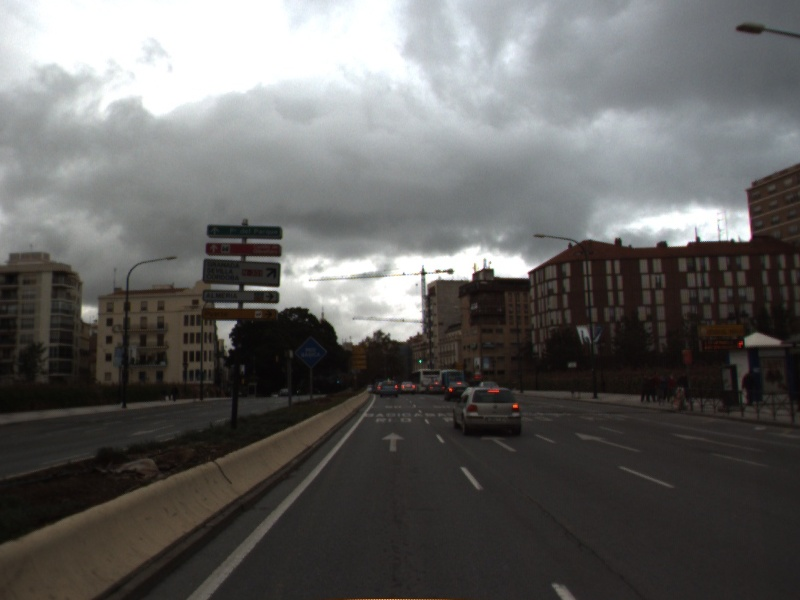STRAIGHT: (670, 431, 766, 454), (572, 430, 644, 454), (478, 433, 520, 454), (379, 430, 408, 453)
